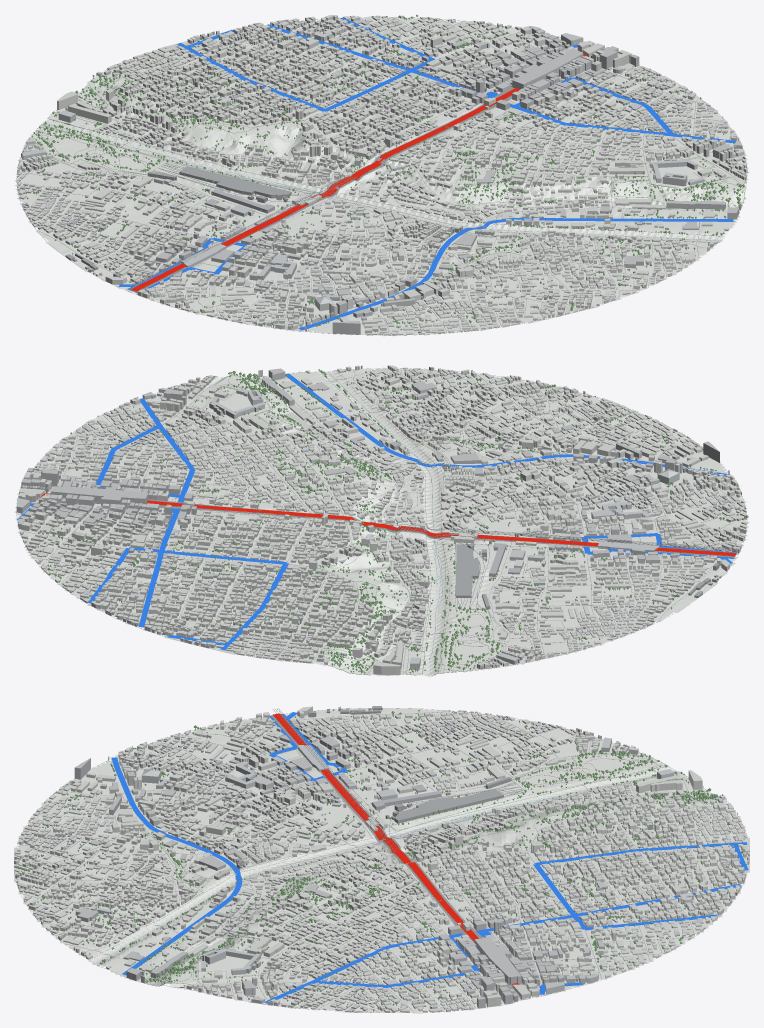
The model's file is Kita-city-model.glb.
3 views of the same model, one above another, from view 1: azimuth 30°, elevation 25°; view 2: azimuth 150°, elevation 25°; view 3: azimuth 270°, elevation 25° (orthographic).
Visible parts, largest first — view 1: TERRAIN, TERRAIN_part2, BUILDINGS_RESIDENTIAL, BUILDINGS_RESIDENTIAL_part3, BUILDINGS_RESIDENTIAL_part2, BUILDINGS_RESIDENTIAL_part4, BUILDINGS_RESIDENTIAL_part5, BUILDINGS_COMMERCIAL, BUILDINGS_RESIDENTIAL_part6, BUILDINGS_PUBLIC, TREES, A_TRANSIT_2F80ED (+15 smaller); view 2: TERRAIN, TERRAIN_part2, BUILDINGS_RESIDENTIAL, BUILDINGS_RESIDENTIAL_part3, BUILDINGS_RESIDENTIAL_part2, BUILDINGS_RESIDENTIAL_part4, BUILDINGS_RESIDENTIAL_part5, BUILDINGS_COMMERCIAL, BUILDINGS_RESIDENTIAL_part6, BUILDINGS_PUBLIC, A_TRANSIT_2F80ED, TREES (+19 smaller); view 3: TERRAIN, TERRAIN_part2, BUILDINGS_RESIDENTIAL, BUILDINGS_RESIDENTIAL_part3, BUILDINGS_RESIDENTIAL_part2, BUILDINGS_RESIDENTIAL_part4, BUILDINGS_RESIDENTIAL_part5, BUILDINGS_COMMERCIAL, BUILDINGS_RESIDENTIAL_part6, BUILDINGS_PUBLIC, A_TRANSIT_2F80ED, TREES (+16 smaller).
Part boxes in pixels (box(x1,y1,x2,y2)): TERRAIN: box(71, 99, 749, 336); TERRAIN_part2: box(14, 16, 699, 256); BUILDINGS_RESIDENTIAL: box(16, 15, 746, 335); BUILDINGS_RESIDENTIAL_part3: box(57, 15, 741, 331); BUILDINGS_RESIDENTIAL_part2: box(137, 68, 746, 329); BUILDINGS_RESIDENTIAL_part4: box(106, 16, 747, 186); BUILDINGS_RESIDENTIAL_part5: box(17, 15, 709, 323); BUILDINGS_COMMERCIAL: box(99, 22, 739, 334); BUILDINGS_RESIDENTIAL_part6: box(19, 25, 737, 331); BUILDINGS_PUBLIC: box(21, 19, 742, 311); TREES: box(33, 14, 744, 326); A_TRANSIT_2F80ED: box(119, 17, 737, 330); TERRAIN: box(68, 367, 749, 596); TERRAIN_part2: box(14, 436, 697, 677); BUILDINGS_RESIDENTIAL: box(18, 369, 746, 667); BUILDINGS_RESIDENTIAL_part3: box(23, 369, 746, 675); BUILDINGS_RESIDENTIAL_part2: box(34, 367, 747, 553); BUILDINGS_RESIDENTIAL_part4: box(68, 375, 429, 658); BUILDINGS_RESIDENTIAL_part5: box(91, 365, 746, 669); BUILDINGS_COMMERCIAL: box(21, 368, 729, 611); BUILDINGS_RESIDENTIAL_part6: box(21, 369, 741, 664); BUILDINGS_PUBLIC: box(16, 389, 679, 669); A_TRANSIT_2F80ED: box(17, 373, 736, 650); TREES: box(21, 369, 748, 673); TERRAIN: box(14, 708, 381, 1012); TERRAIN_part2: box(377, 708, 735, 1013); BUILDINGS_RESIDENTIAL: box(16, 711, 747, 1012); BUILDINGS_RESIDENTIAL_part3: box(14, 706, 744, 1012); BUILDINGS_RESIDENTIAL_part2: box(14, 712, 471, 1012); BUILDINGS_RESIDENTIAL_part4: box(186, 789, 749, 1011); BUILDINGS_RESIDENTIAL_part5: box(14, 710, 746, 952); BUILDINGS_COMMERCIAL: box(54, 719, 683, 1012); BUILDINGS_RESIDENTIAL_part6: box(29, 711, 738, 1007); BUILDINGS_PUBLIC: box(97, 729, 723, 1009); A_TRANSIT_2F80ED: box(111, 712, 748, 1003); TREES: box(15, 711, 743, 1005).
Size of the model in its own units: 1561 by 57.08 by 1561.
